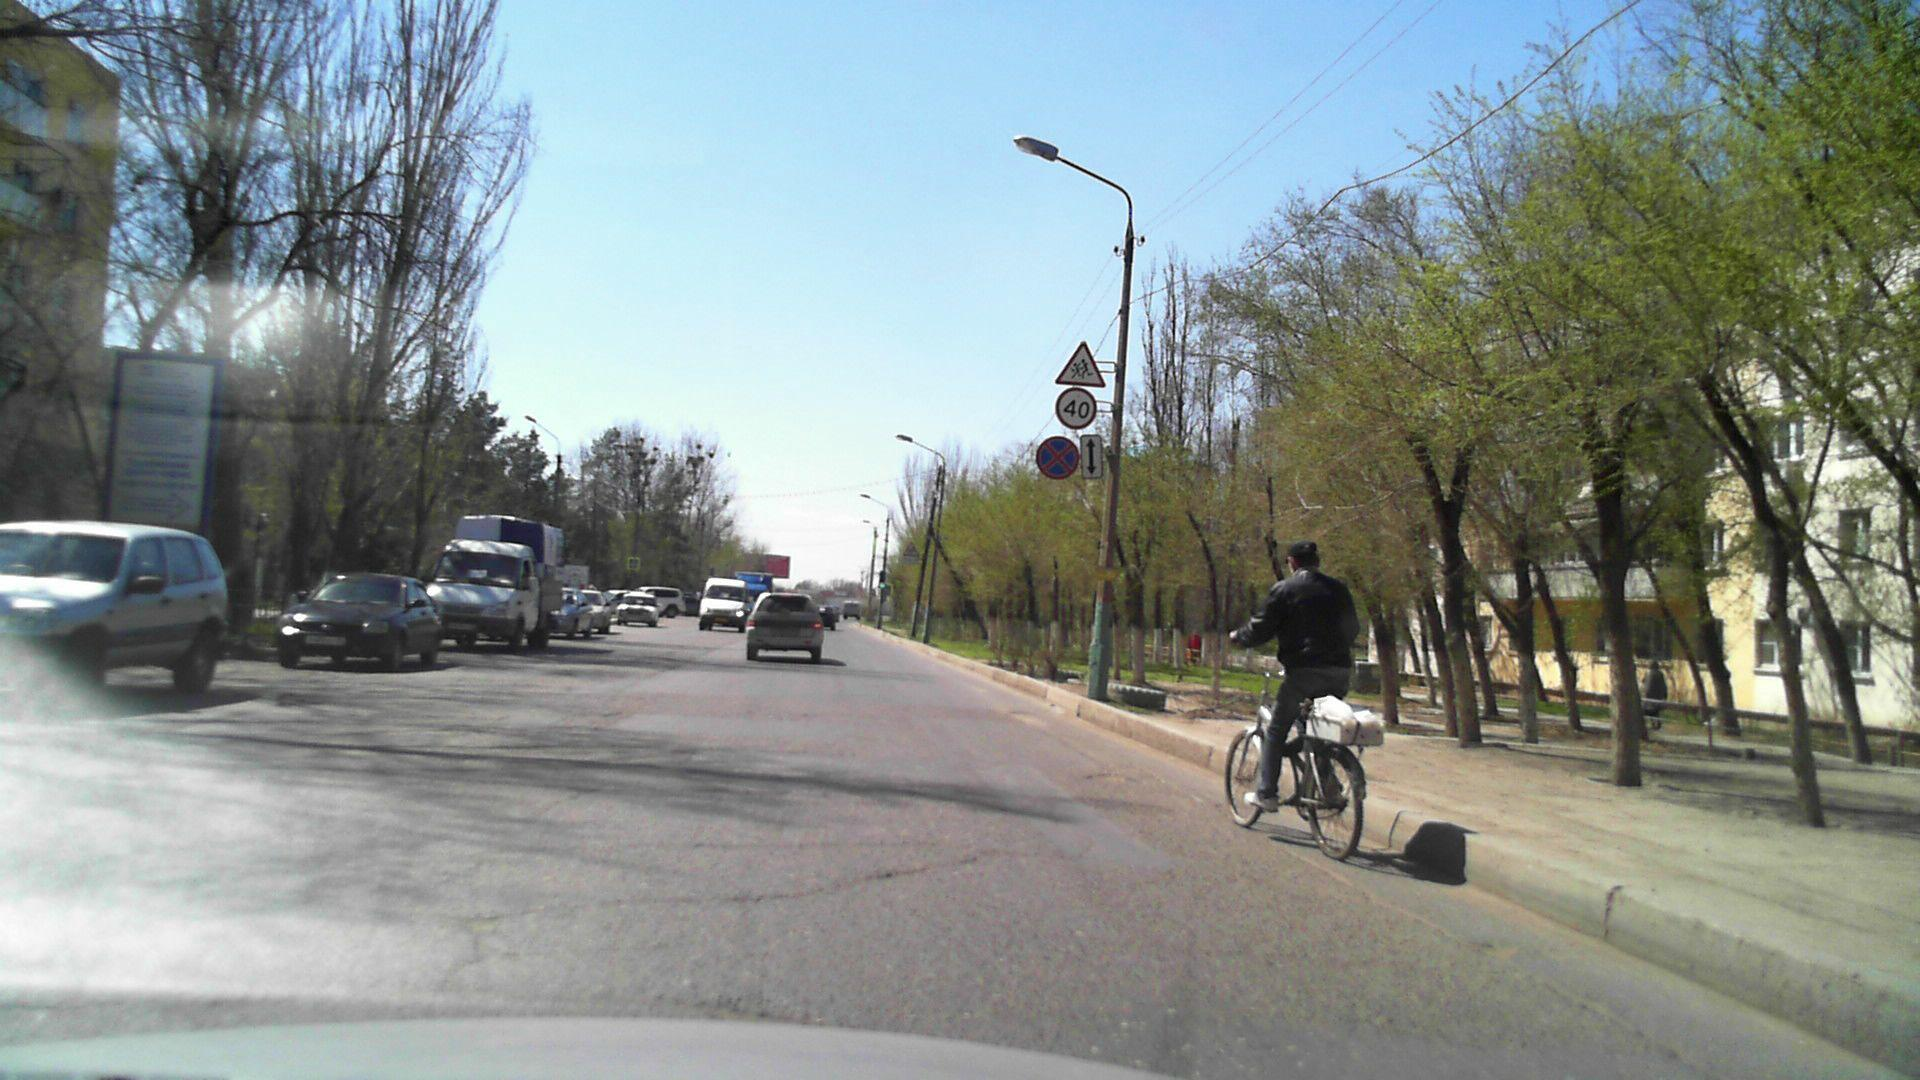1_23: (1054, 339, 1108, 388), (902, 540, 921, 557)
3_24: (1056, 385, 1098, 431)
3_27: (1033, 434, 1079, 480)
8_2_4: (1078, 432, 1103, 479)
